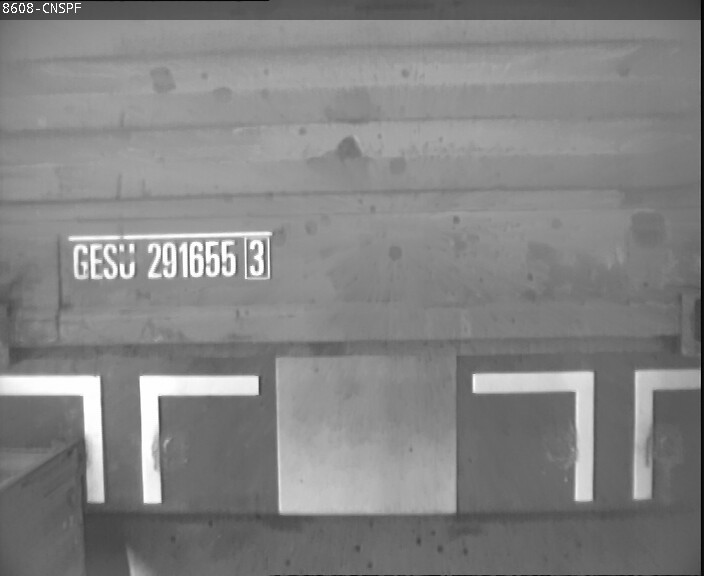groundmarker_1: (1, 370, 263, 502), (474, 368, 703, 502)
